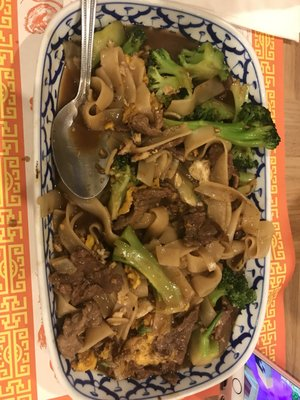curry: (209, 267, 258, 311), (121, 25, 147, 56)
sushi: (23, 1, 292, 394)
